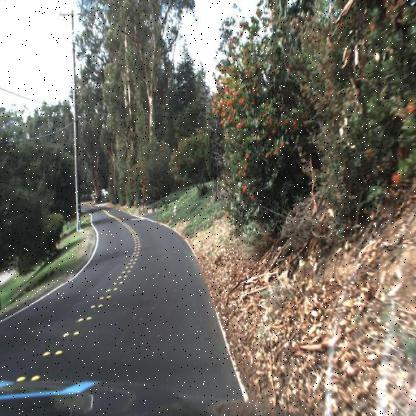car: (102, 184, 114, 202)
